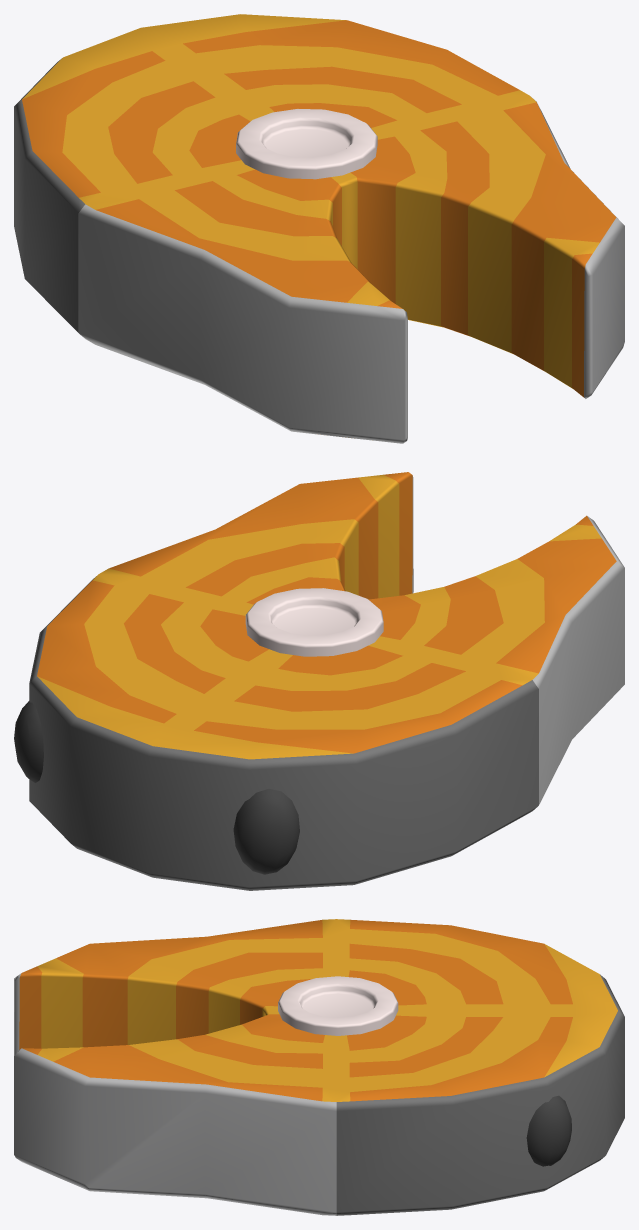
The model's file is Salmon_1_Steak_2.fbx.
3 views of the same model, one above another, from view 1: azimuth 30°, elevation 25°; view 2: azimuth 150°, elevation 25°; view 3: azimuth 270°, elevation 25° (orthographic). The views are drawn at different scales.
Visible parts, largest first — view 1: Salmon_1_Steak_2; view 2: Salmon_1_Steak_2; view 3: Salmon_1_Steak_2.
Part boxes in pixels (box(x1,y1,x2,y2)): Salmon_1_Steak_2: box(14, 14, 624, 443); Salmon_1_Steak_2: box(14, 472, 624, 890); Salmon_1_Steak_2: box(14, 919, 624, 1215).
Bounding box in the file's own units: 20.5 × 6.79 × 28.06.
